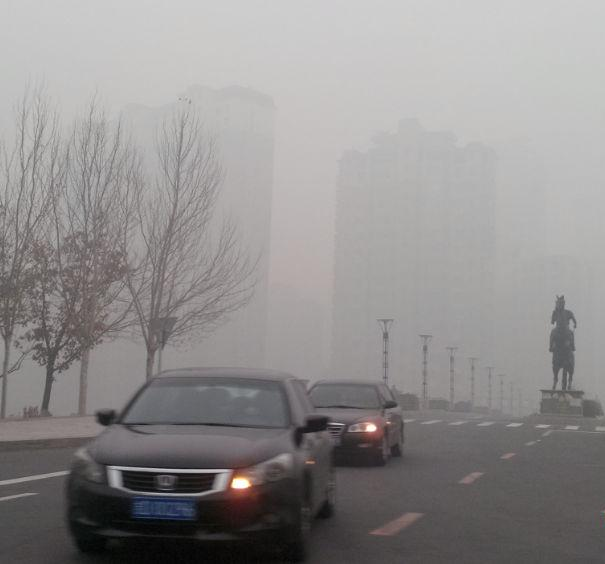car: (61, 365, 340, 564), (295, 376, 407, 469)
